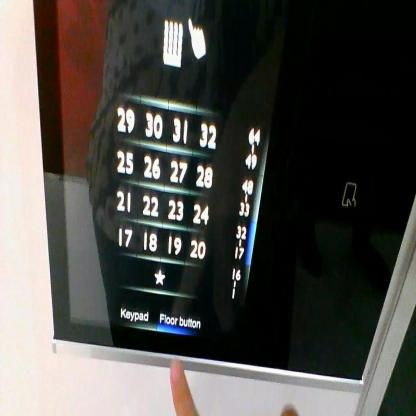17: (114, 219, 136, 256)
18: (138, 221, 159, 265)
19: (162, 224, 184, 267)
20: (184, 230, 208, 272)
21: (112, 182, 136, 221)
22: (139, 188, 163, 227)
23: (163, 192, 186, 228)
24: (188, 194, 213, 235)
25: (112, 141, 139, 185)
26: (140, 147, 164, 189)
27: (165, 151, 190, 195)
28: (190, 154, 216, 198)
29: (113, 94, 140, 142)
30: (140, 94, 166, 149)
31: (166, 102, 192, 154)
32: (191, 107, 222, 158)
s: (150, 259, 171, 292)
